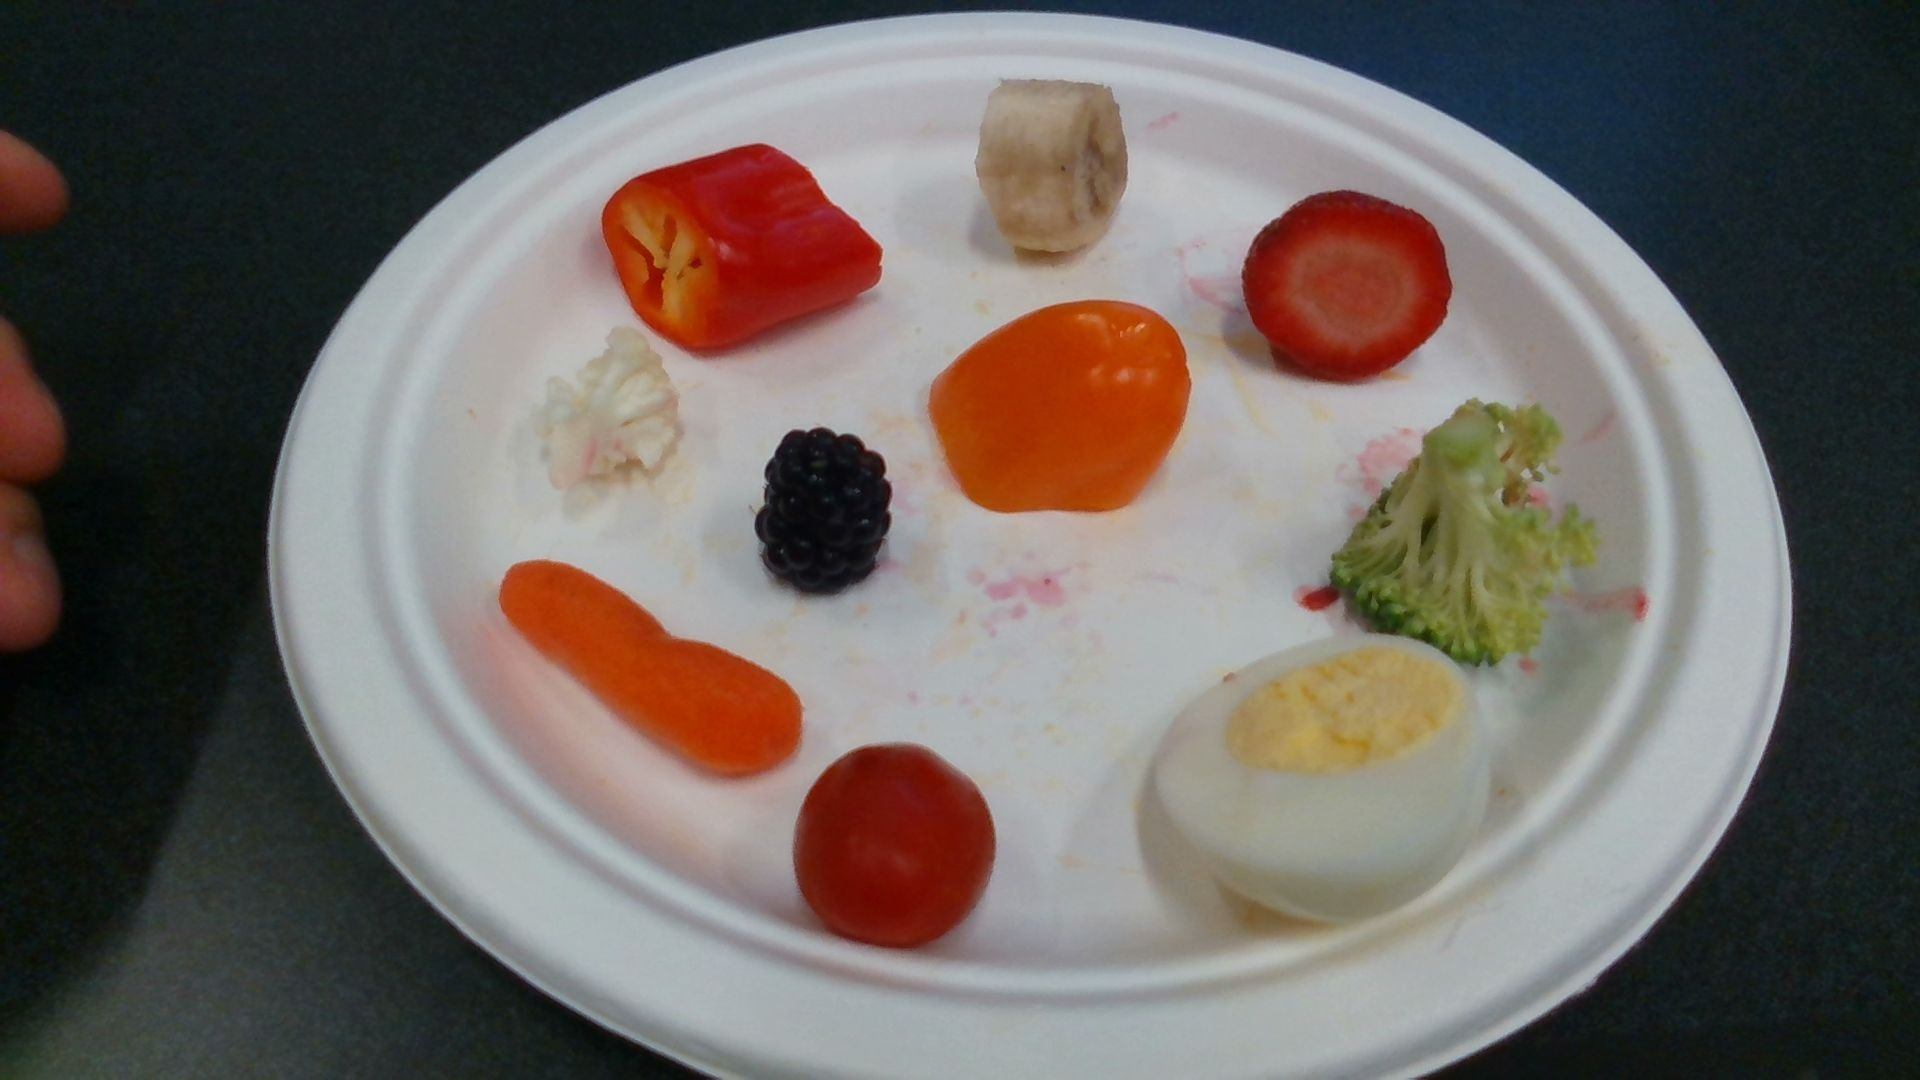banana: (977, 78, 1127, 251)
bell_pepper: (600, 145, 880, 345), (932, 301, 1187, 513)
blackberry: (760, 430, 891, 595)
broccoli: (1332, 401, 1594, 666)
carrot: (500, 560, 799, 775)
cauliflower: (534, 334, 680, 485)
cherry_tomato: (796, 745, 996, 948)
egg: (1155, 636, 1489, 918)
strawberry: (1245, 195, 1451, 378)
